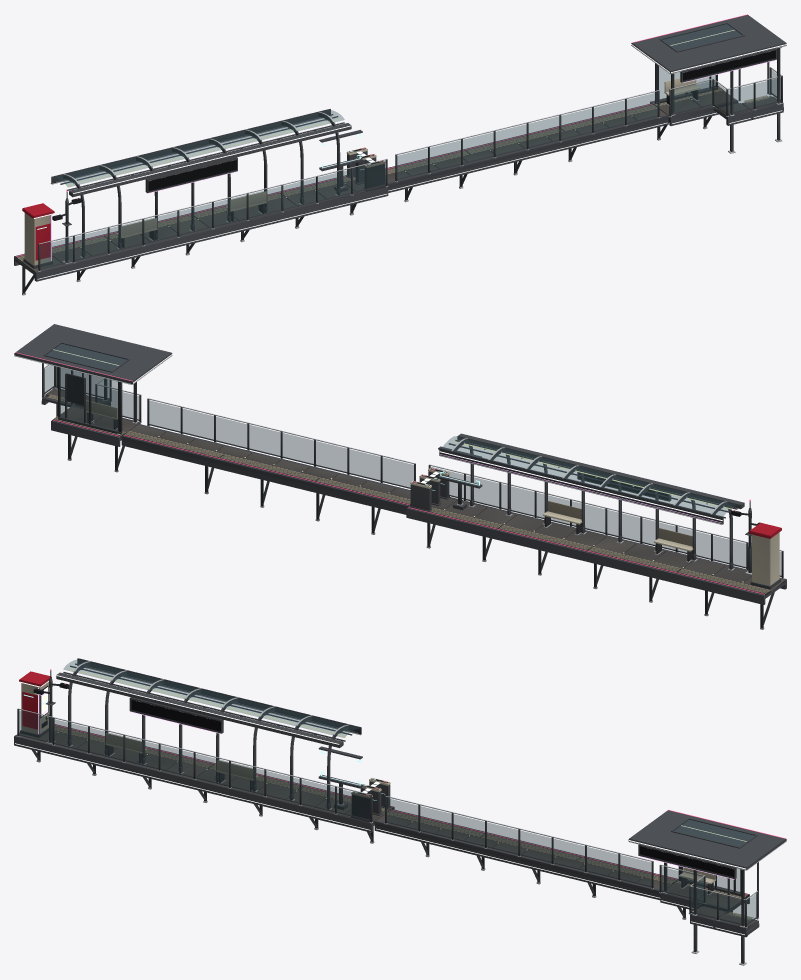
Rendered from station338.glb.
The picture shows the model from 3 angles, top to bottom: view 1: azimuth 30°, elevation 25°; view 2: azimuth 150°, elevation 25°; view 3: azimuth 330°, elevation 25°; orthographic projection.
Visible parts, largest first — view 1: st303-steel, st303-glass, st303-deck, st303-dark, st303-frame, st303-tact, st303-cream, st303-led, st303-crim, st303-ledr; view 2: st303-steel, st303-glass, st303-deck, st303-dark, st303-tact, st303-cream, st303-frame, st303-ledr, st303-led; view 3: st303-steel, st303-glass, st303-deck, st303-dark, st303-frame, st303-tact, st303-cream, st303-led, st303-crim, st303-ledr.
Part boxes in pixels (<box>): st303-steel: <box>14,15,786,293</box>; st303-glass: <box>40,24,780,268</box>; st303-deck: <box>21,90,776,272</box>; st303-dark: <box>15,50,775,260</box>; st303-frame: <box>22,45,786,295</box>; st303-tact: <box>17,87,769,260</box>; st303-cream: <box>24,78,700,265</box>; st303-led: <box>33,44,786,279</box>; st303-crim: <box>22,203,54,260</box>; st303-ledr: <box>16,14,747,256</box>; st303-steel: <box>14,324,786,628</box>; st303-glass: <box>45,343,781,575</box>; st303-deck: <box>45,388,784,592</box>; st303-dark: <box>52,416,770,594</box>; st303-tact: <box>47,394,770,593</box>; st303-cream: <box>86,400,779,585</box>; st303-frame: <box>14,355,784,629</box>; st303-ledr: <box>15,352,764,594</box>; st303-led: <box>133,354,743,520</box>; st303-steel: <box>14,658,786,963</box>; st303-glass: <box>19,659,756,924</box>; st303-deck: <box>16,730,755,927</box>; st303-dark: <box>33,682,748,897</box>; st303-frame: <box>16,661,786,965</box>; st303-tact: <box>55,726,753,919</box>; st303-cream: <box>21,681,715,884</box>; st303-led: <box>15,675,746,934</box>; st303-crim: <box>19,671,51,729</box>; st303-ledr: <box>50,669,785,894</box>.
Bounding box in the file's own units: 30.3 × 4.29 × 2.88.
